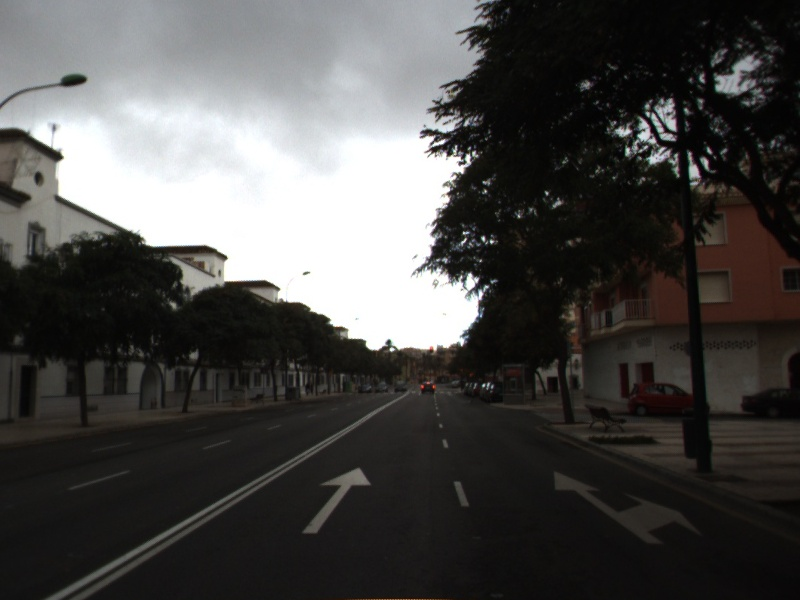STRAIGHT: (301, 465, 373, 535)
STRAIGHT_RIGHT: (552, 469, 705, 546)
